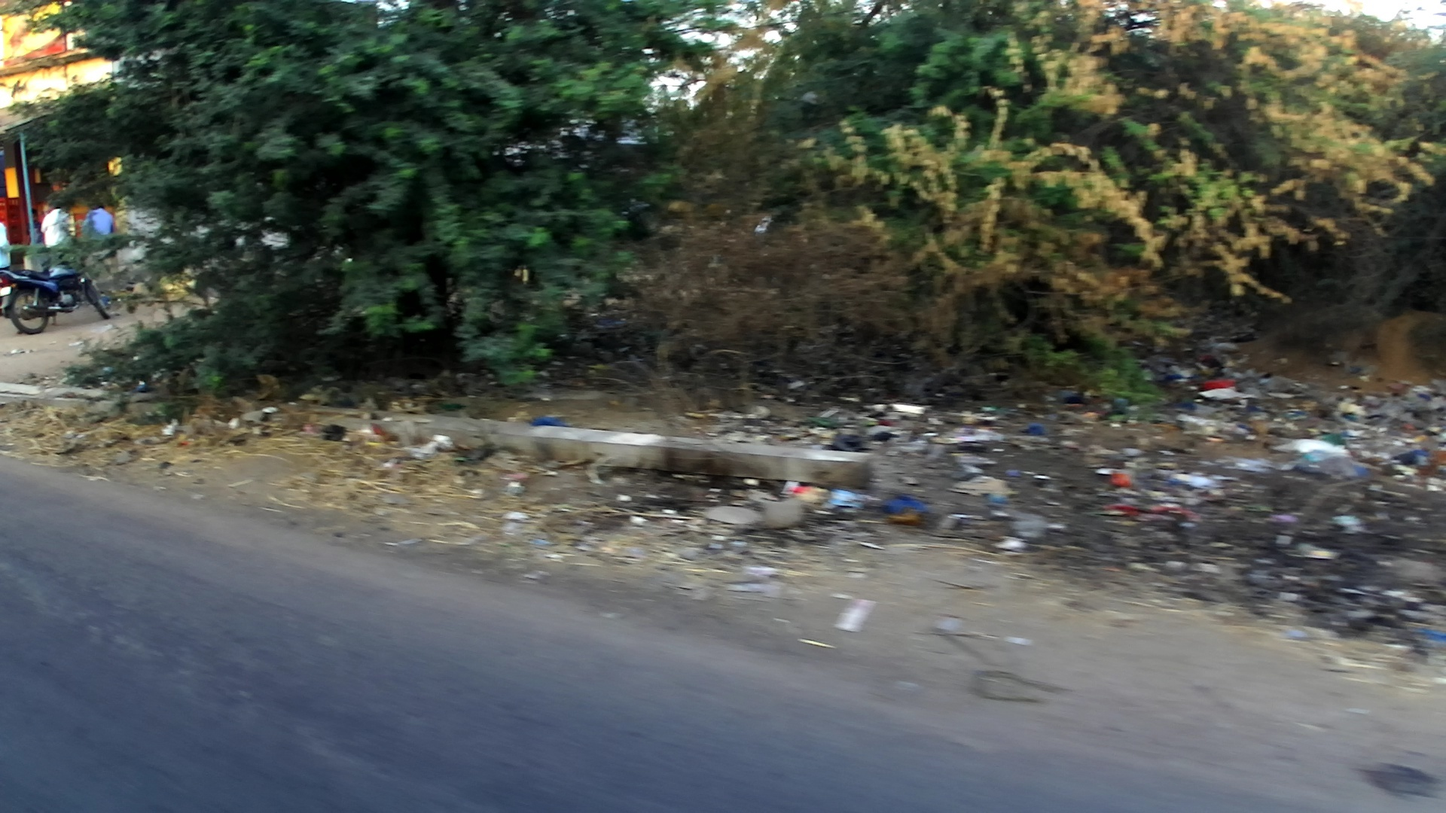motorcycle: (1, 259, 115, 336)
person: (40, 202, 76, 258), (81, 202, 114, 242), (1, 215, 19, 276)
